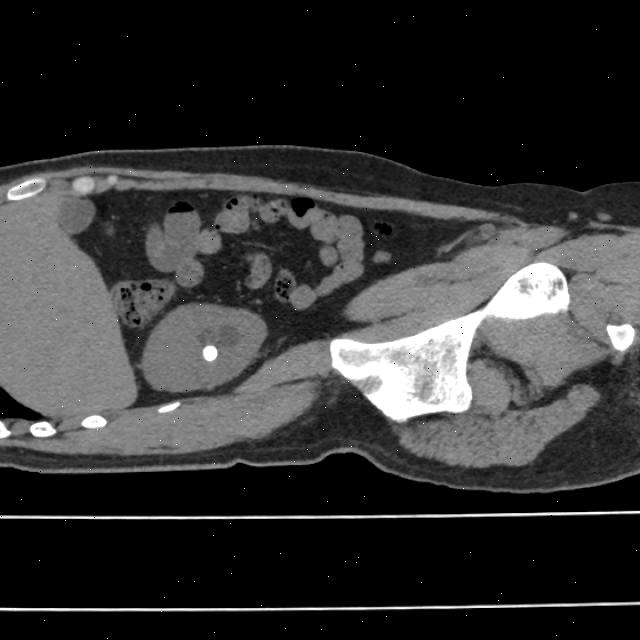kidneystone: (202, 346, 218, 361)
